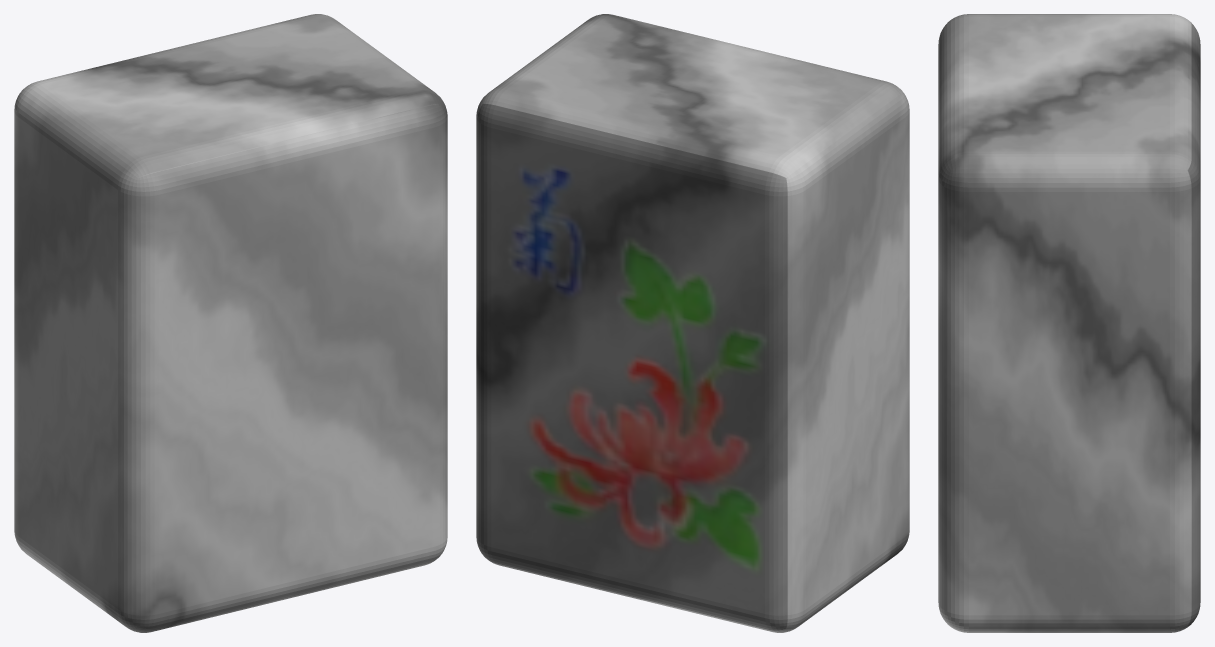
The model's file is flower4.fbx.
The picture shows the model from 3 angles, left to right: view 1: azimuth 30°, elevation 25°; view 2: azimuth 150°, elevation 25°; view 3: azimuth 270°, elevation 25°; orthographic projection.
Parts seen in each view (by area): view 1: flower4; view 2: flower4; view 3: flower4.
Part boxes in pixels (x1=…): flower4: x1=14, y1=14, x2=447, y2=632; flower4: x1=476, y1=14, x2=909, y2=632; flower4: x1=938, y1=14, x2=1200, y2=632.
Size of the model in its own units: 100 by 139 by 69.
1 material, 1 textured.
